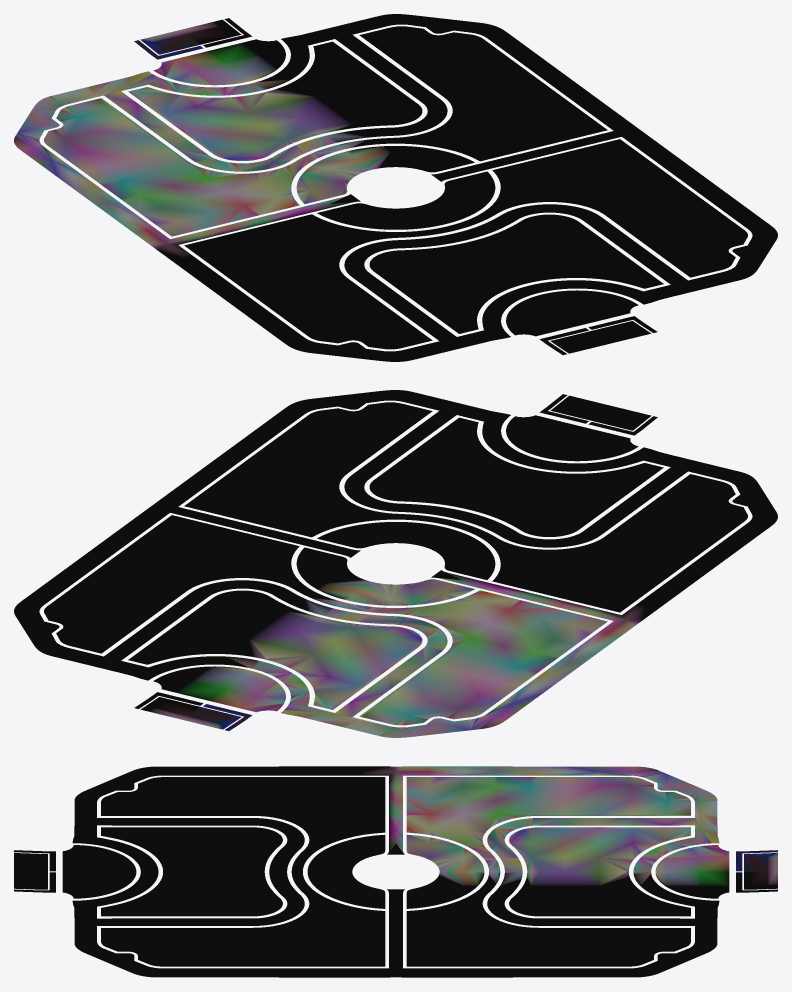
File: Grass_Base.gltf
3 renders of one model, top to bottom at view 1: azimuth 30°, elevation 25°; view 2: azimuth 150°, elevation 25°; view 3: azimuth 270°, elevation 25°, orthographic. The views are drawn at different scales.
Parts seen in each view (by area): view 1: Grass_Base; view 2: Grass_Base; view 3: Grass_Base.
Part boxes in pixels (<box>): Grass_Base: <box>14,14,777,361</box>; Grass_Base: <box>14,390,777,737</box>; Grass_Base: <box>14,766,777,977</box>.
Size of the model in its own units: 75.6 by 0.2026 by 116.
